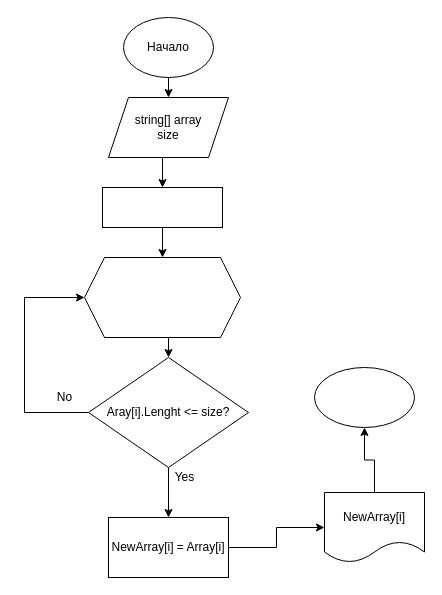
Image size: 442x595. Some labels were removed from this diagram. The centre of each missing label's shape, as x and y in pixels:
"for i=0; Array.Length; i++" goes at (x=162, y=297).
"NewArray []" goes at (x=162, y=207).
"Еnd" goes at (x=364, y=397).
